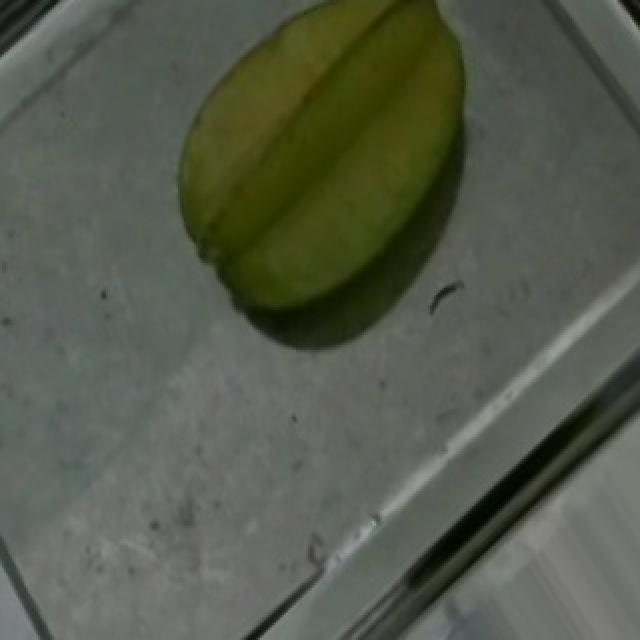fruit: (128, 0, 530, 367)
